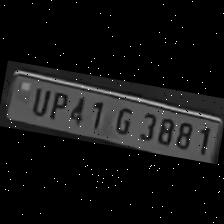1: (82, 94, 109, 132), (191, 120, 215, 156)
3: (134, 107, 158, 143)
4: (64, 90, 89, 126)
8: (170, 116, 195, 151), (153, 112, 176, 148)
G: (106, 100, 136, 137)
P: (43, 86, 70, 122)
U: (26, 84, 52, 116)
